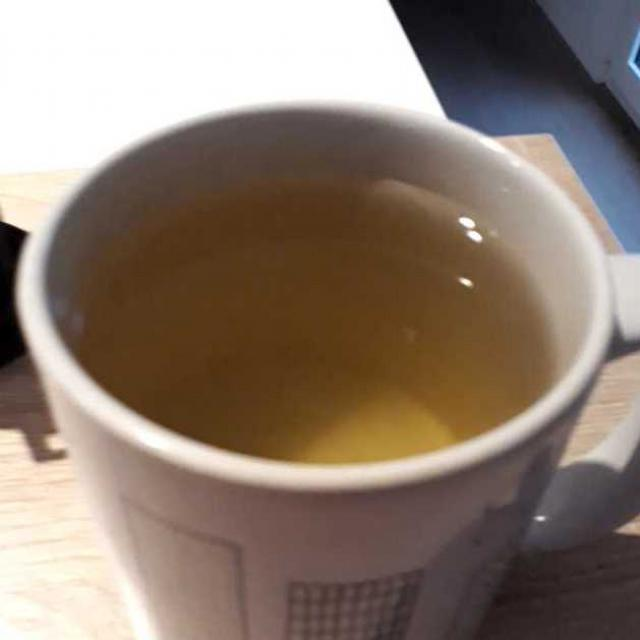tea: (68, 163, 560, 459)
